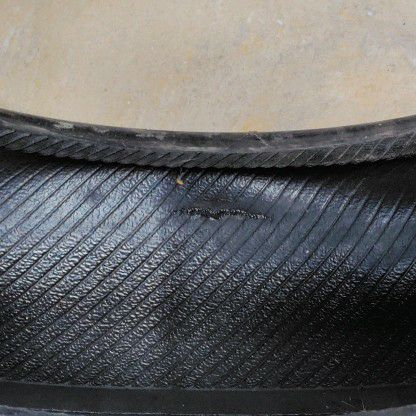CBU: (169, 202, 274, 227)
